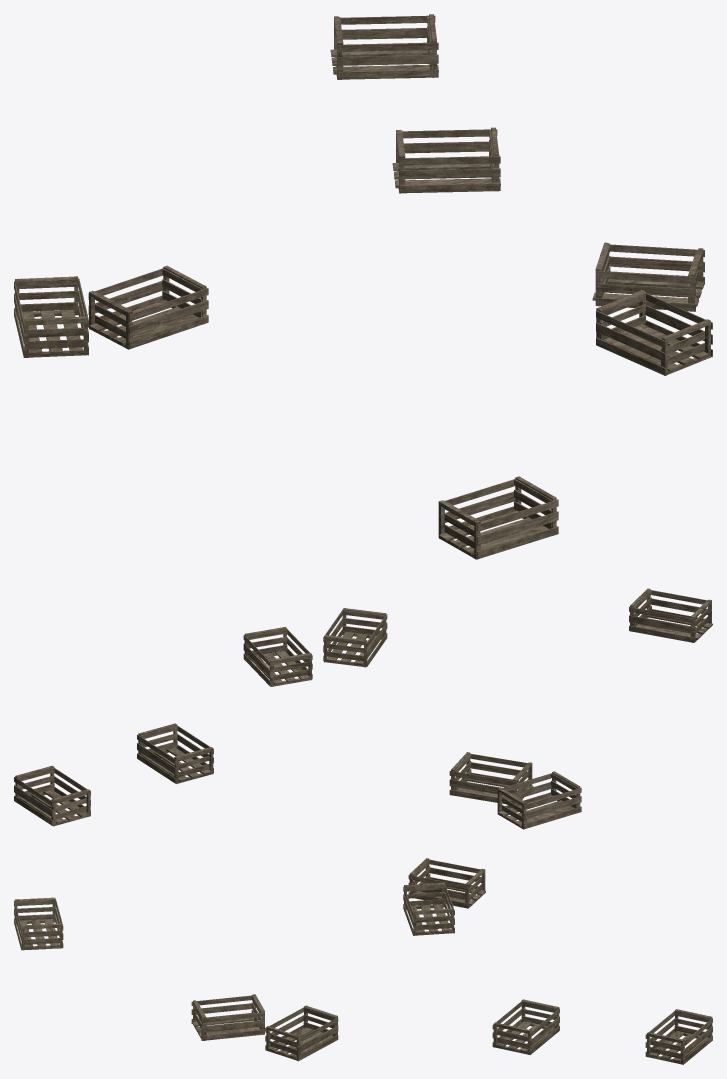
File: Arena_Wood_Box_Open.fbx
3 views of the same model, one above another, from view 1: azimuth 30°, elevation 25°; view 2: azimuth 150°, elevation 25°; view 3: azimuth 270°, elevation 25° (orthographic). The views are drawn at different scales.
Visible parts, largest first — view 1: Wood_Box.214, Wood_Box.212, Wood_Box.213, Wood_Box.209, Wood_Box, Wood_Box.210, Wood_Box.211; view 2: Wood_Box.211, Wood_Box.212, Wood_Box, Wood_Box.209, Wood_Box.210, Wood_Box.213, Wood_Box.214; view 3: Wood_Box.210, Wood_Box.213, Wood_Box.209, Wood_Box, Wood_Box.214, Wood_Box.211, Wood_Box.212.
Part boxes in pixels (box(x1,y1,x2,y2)): Wood_Box.214: box(88, 265, 208, 349); Wood_Box.212: box(438, 476, 558, 559); Wood_Box.213: box(596, 290, 712, 375); Wood_Box.209: box(392, 127, 500, 193); Wood_Box: box(330, 14, 438, 79); Wood_Box.210: box(592, 242, 704, 311); Wood_Box.211: box(14, 276, 88, 357); Wood_Box.211: box(497, 771, 581, 829); Wood_Box.212: box(629, 588, 712, 642); Wood_Box: box(14, 765, 90, 826); Wood_Box.209: box(137, 723, 213, 783); Wood_Box.210: box(243, 627, 312, 686); Wood_Box.213: box(323, 608, 387, 667); Wood_Box.214: box(449, 752, 533, 804); Wood_Box.210: box(265, 1005, 338, 1061); Wood_Box.213: box(191, 994, 265, 1040); Wood_Box.209: box(492, 999, 559, 1054); Wood_Box: box(645, 1009, 712, 1064); Wood_Box.214: box(403, 882, 454, 935); Wood_Box.211: box(408, 858, 485, 908); Wood_Box.212: box(14, 897, 63, 950).
Size of the model in its own units: 921 by 71.48 by 1415.
